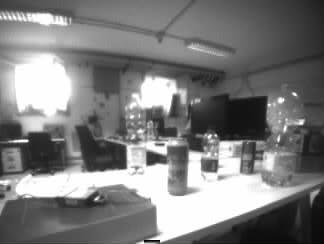Bottle: (263, 84, 299, 187), (126, 93, 147, 174), (202, 127, 218, 180)
Tin can: (167, 139, 188, 196), (241, 141, 255, 174)
